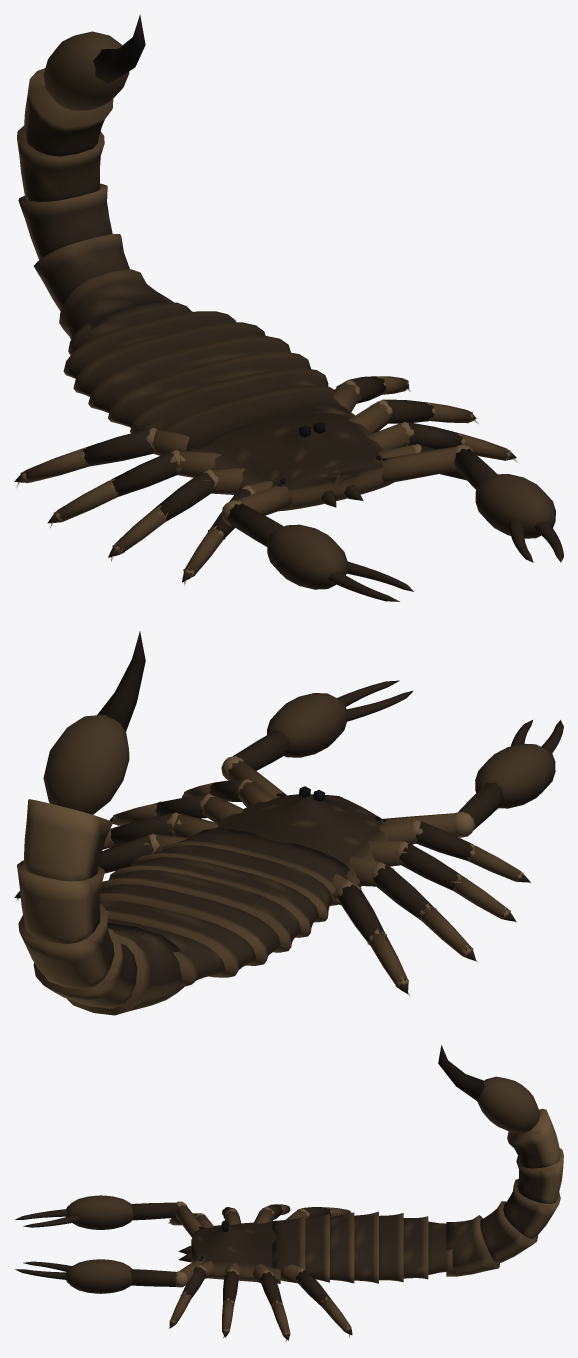
The model's file is BrontoscorpioAnglicus.fbx.
The picture shows the model from 3 angles, top to bottom: view 1: azimuth 30°, elevation 25°; view 2: azimuth 150°, elevation 25°; view 3: azimuth 270°, elevation 25°; orthographic projection. The views are drawn at different scales.
Visible parts, largest first — view 1: BrontoscorpioAnglicus; view 2: BrontoscorpioAnglicus; view 3: BrontoscorpioAnglicus.
Part boxes in pixels (x1,y1,x2,y2): BrontoscorpioAnglicus: (14, 14, 563, 601); BrontoscorpioAnglicus: (14, 631, 563, 1015); BrontoscorpioAnglicus: (15, 1045, 563, 1342).
Size of the model in its own units: 0.9399 by 0.7796 by 1.66.
